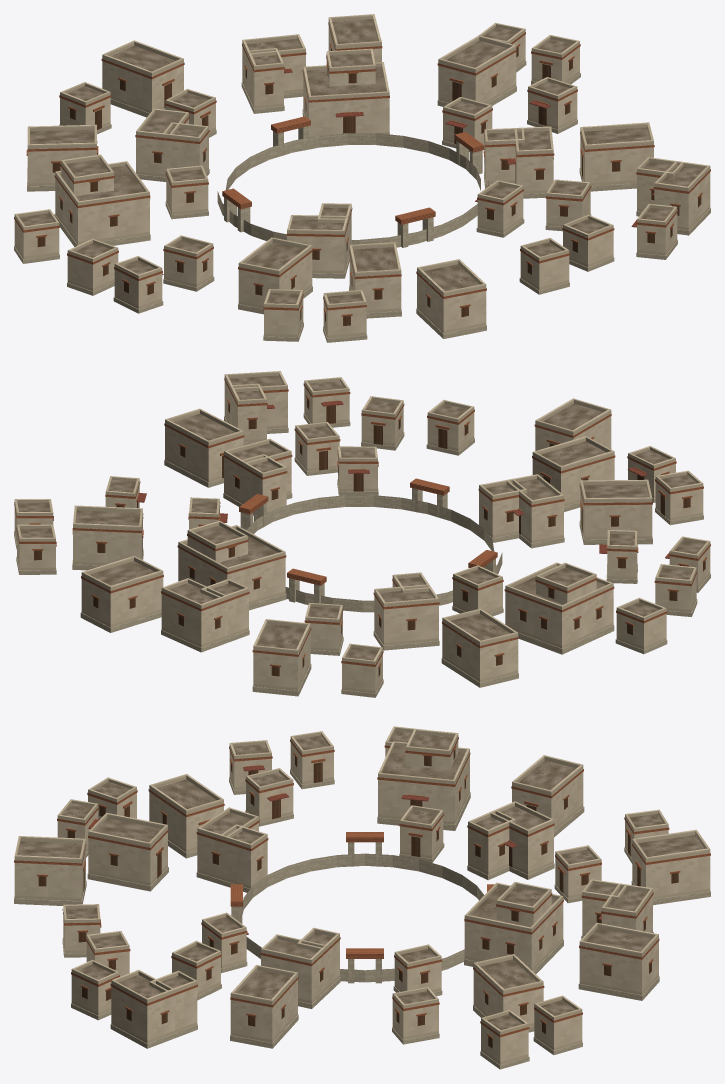
The model's file is sandy_ring_city_lod0.glb.
3 views of the same model, one above another, from view 1: azimuth 30°, elevation 25°; view 2: azimuth 150°, elevation 25°; view 3: azimuth 270°, elevation 25° (orthographic). The views are drawn at different scales.
Parts seen in each view (by area): view 1: ae_sand_neighbourhood_stone_lod0; view 2: ae_sand_neighbourhood_stone_lod0; view 3: ae_sand_neighbourhood_stone_lod0.
Boxes of the visible parts, left/top/right/bottom form: ae_sand_neighbourhood_stone_lod0: left=14, top=14, right=710, bottom=342; ae_sand_neighbourhood_stone_lod0: left=14, top=371, right=710, bottom=697; ae_sand_neighbourhood_stone_lod0: left=14, top=726, right=710, bottom=1069.
Size of the model in its own units: 1.89 by 0.1882 by 1.82.
1 material, 1 textured.
